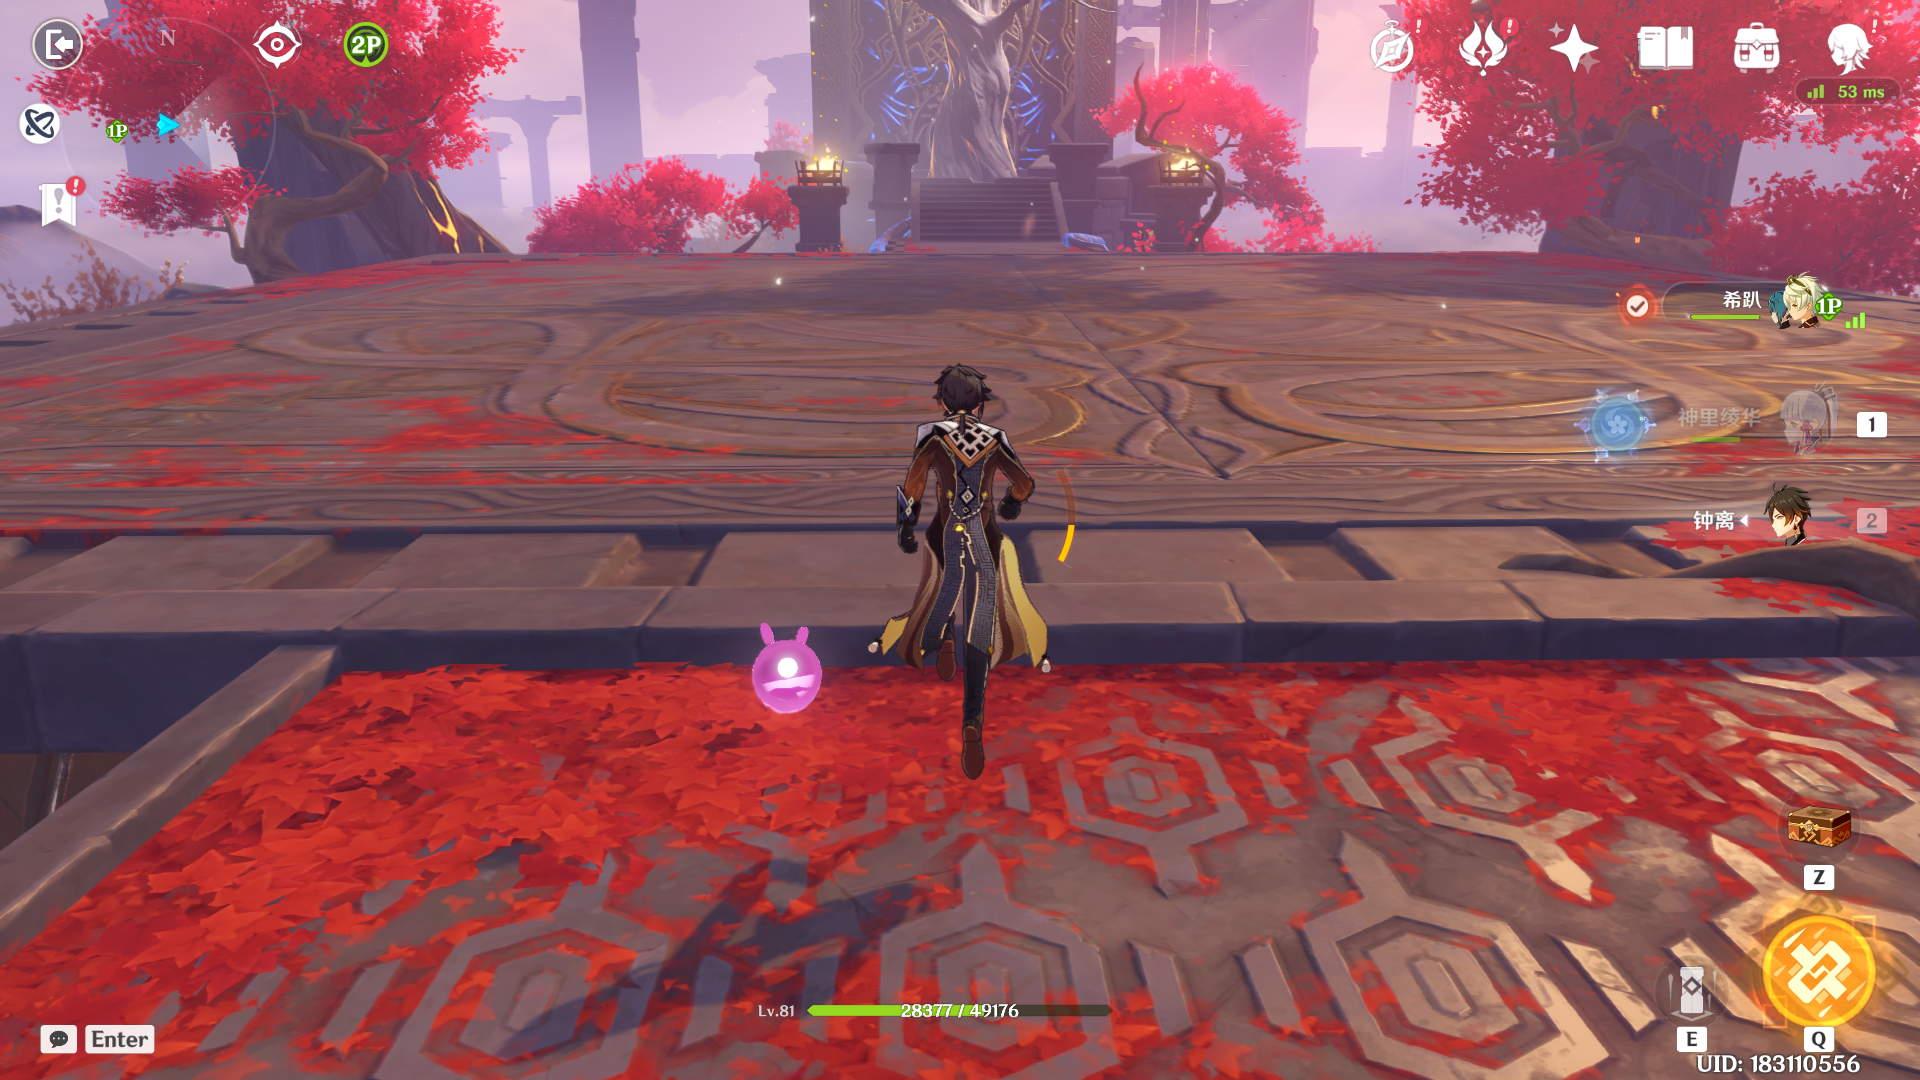character: (862, 348, 1083, 795)
